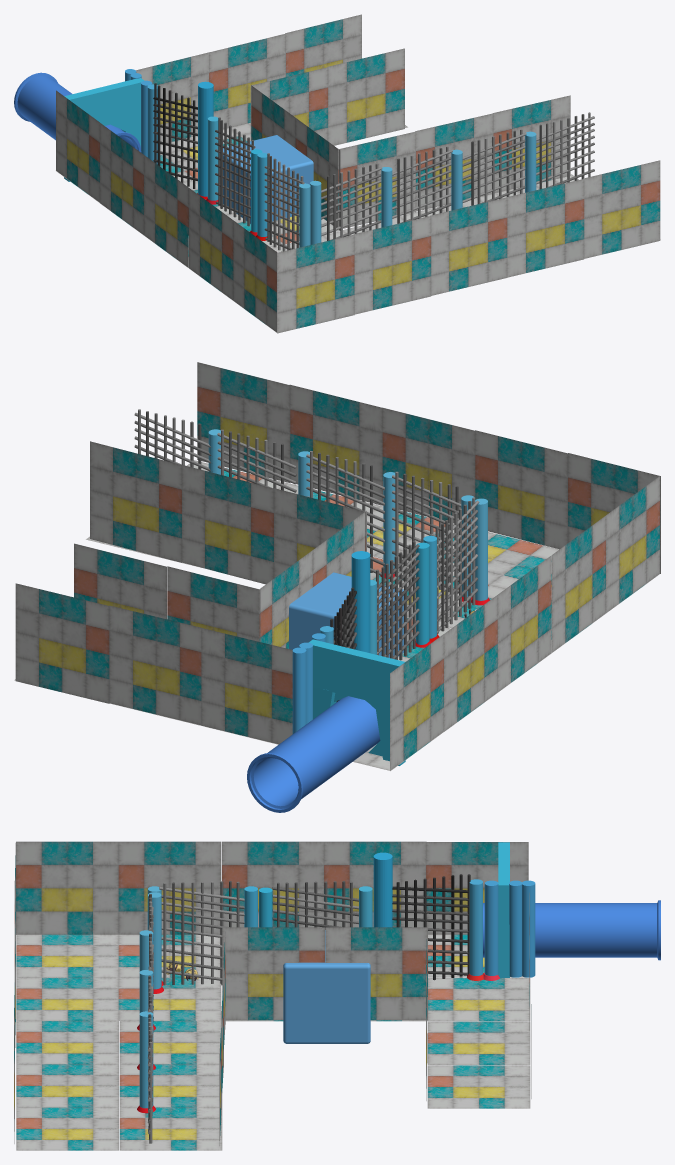
File: dog_day_chase_poppy_playtime_3.glb
3 renders of one model, top to bottom at view 1: azimuth 30°, elevation 25°; view 2: azimuth 150°, elevation 25°; view 3: azimuth 270°, elevation 25°, orthographic. The views are drawn at different scales.
Visible parts, largest first — view 1: Plano.008, Plano.018, Plano.033, Plano.034, Plano.032, Plano.024, Plano.026, Plano.035, Plano.036, Plano.037, Plano.007, Plano.006 (+29 smaller); view 2: Plano.025, Plano.026, Plano.037, Plano.035, Plano.027, Plano.018, Pipe, Plano.033, Plano.034, Plano.032, Plano.006, Plano.005 (+25 smaller); view 3: Plano.015, Plano.007, Cube, Plano.039, Pipe, Plano.038, Plano.006, Plano.005, Plano.004, Plano.014, Plano.013, Plano.016 (+25 smaller).
Part boxes in pixels (x1,y1,x2,y2): Plano.008: (277, 234, 354, 333); Plano.018: (354, 216, 431, 314); Plano.033: (507, 179, 584, 277); Plano.034: (583, 160, 660, 258); Plano.032: (430, 197, 507, 295); Plano.024: (327, 48, 404, 145); Plano.026: (209, 33, 285, 129); Plano.035: (415, 113, 493, 211); Plano.036: (338, 131, 415, 228); Plano.037: (493, 95, 570, 192); Plano.007: (188, 188, 233, 300); Plano.006: (144, 155, 188, 267); Plano.025: (15, 583, 109, 703); Plano.026: (109, 605, 201, 725); Plano.037: (90, 441, 181, 562); Plano.035: (182, 465, 273, 584); Plano.027: (201, 628, 292, 744); Plano.018: (475, 430, 567, 549); Pipe: (247, 696, 380, 812); Plano.033: (290, 384, 382, 505); Plano.034: (197, 362, 290, 482); Plano.032: (382, 408, 475, 523); Plano.006: (497, 555, 551, 691); Plano.005: (444, 595, 497, 731); Plano.015: (16, 841, 118, 934); Plano.007: (118, 841, 221, 934); Cube: (283, 930, 370, 1043); Plano.039: (222, 927, 324, 1020); Pipe: (483, 900, 660, 960); Plano.038: (325, 927, 427, 1020); Plano.006: (222, 841, 324, 927); Plano.005: (324, 841, 426, 927); Plano.004: (426, 842, 528, 934); Plano.014: (427, 1065, 530, 1108); Plano.013: (427, 1021, 530, 1064); Plano.016: (16, 934, 118, 977).
Size of the model in its own units: 50.92 by 16.38 by 64.33.
76 materials, 2 textured.
